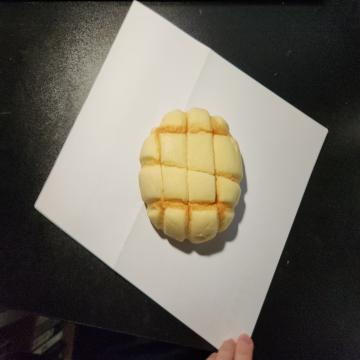melon_bread: (137, 106, 244, 247)
